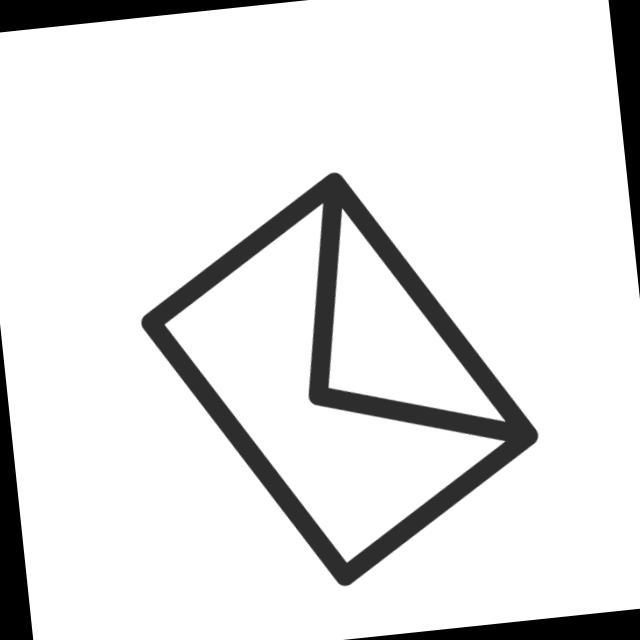letter: (119, 146, 558, 613)
